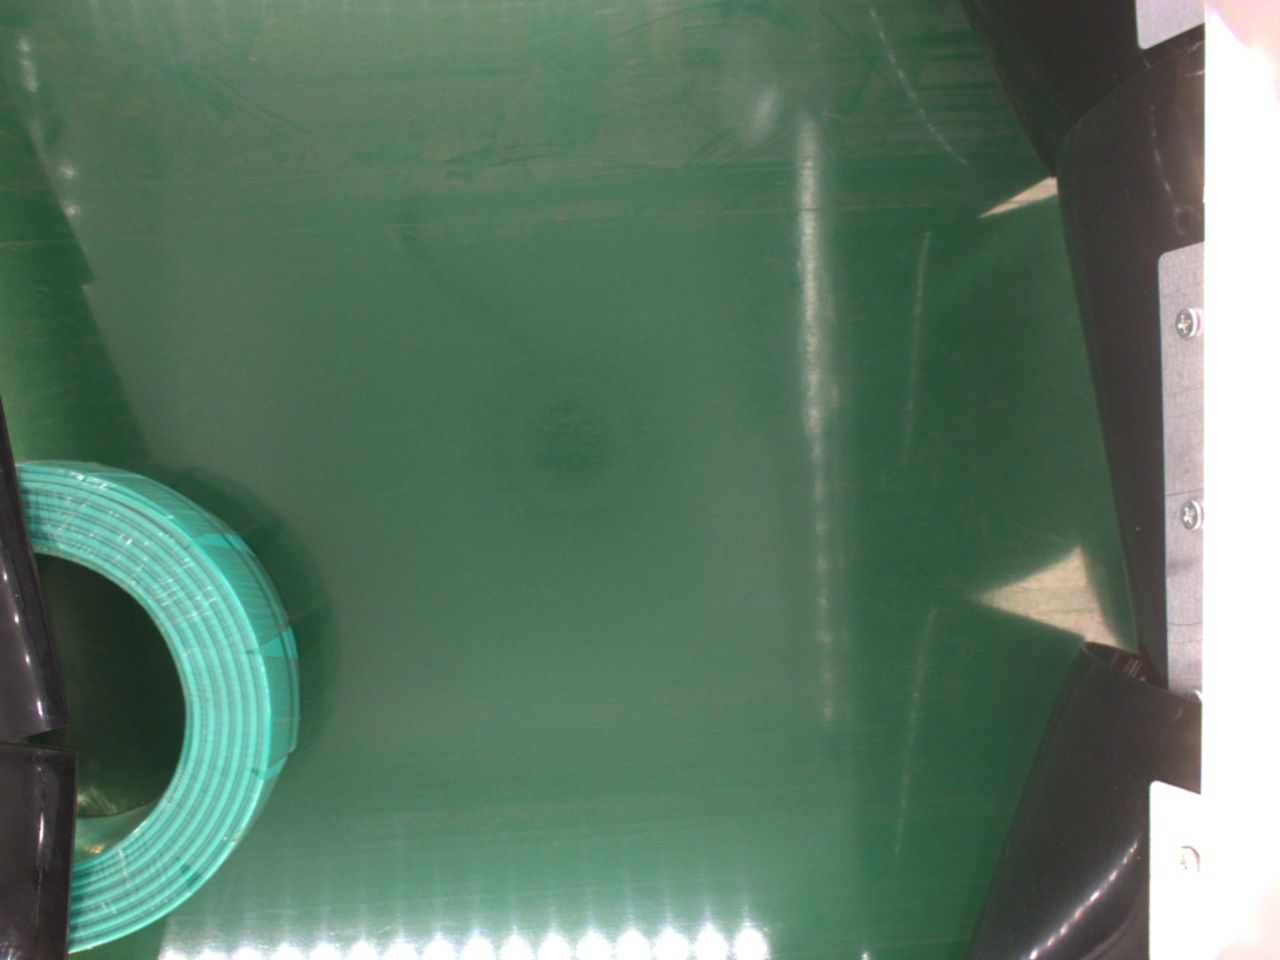green: (10, 454, 302, 955)
